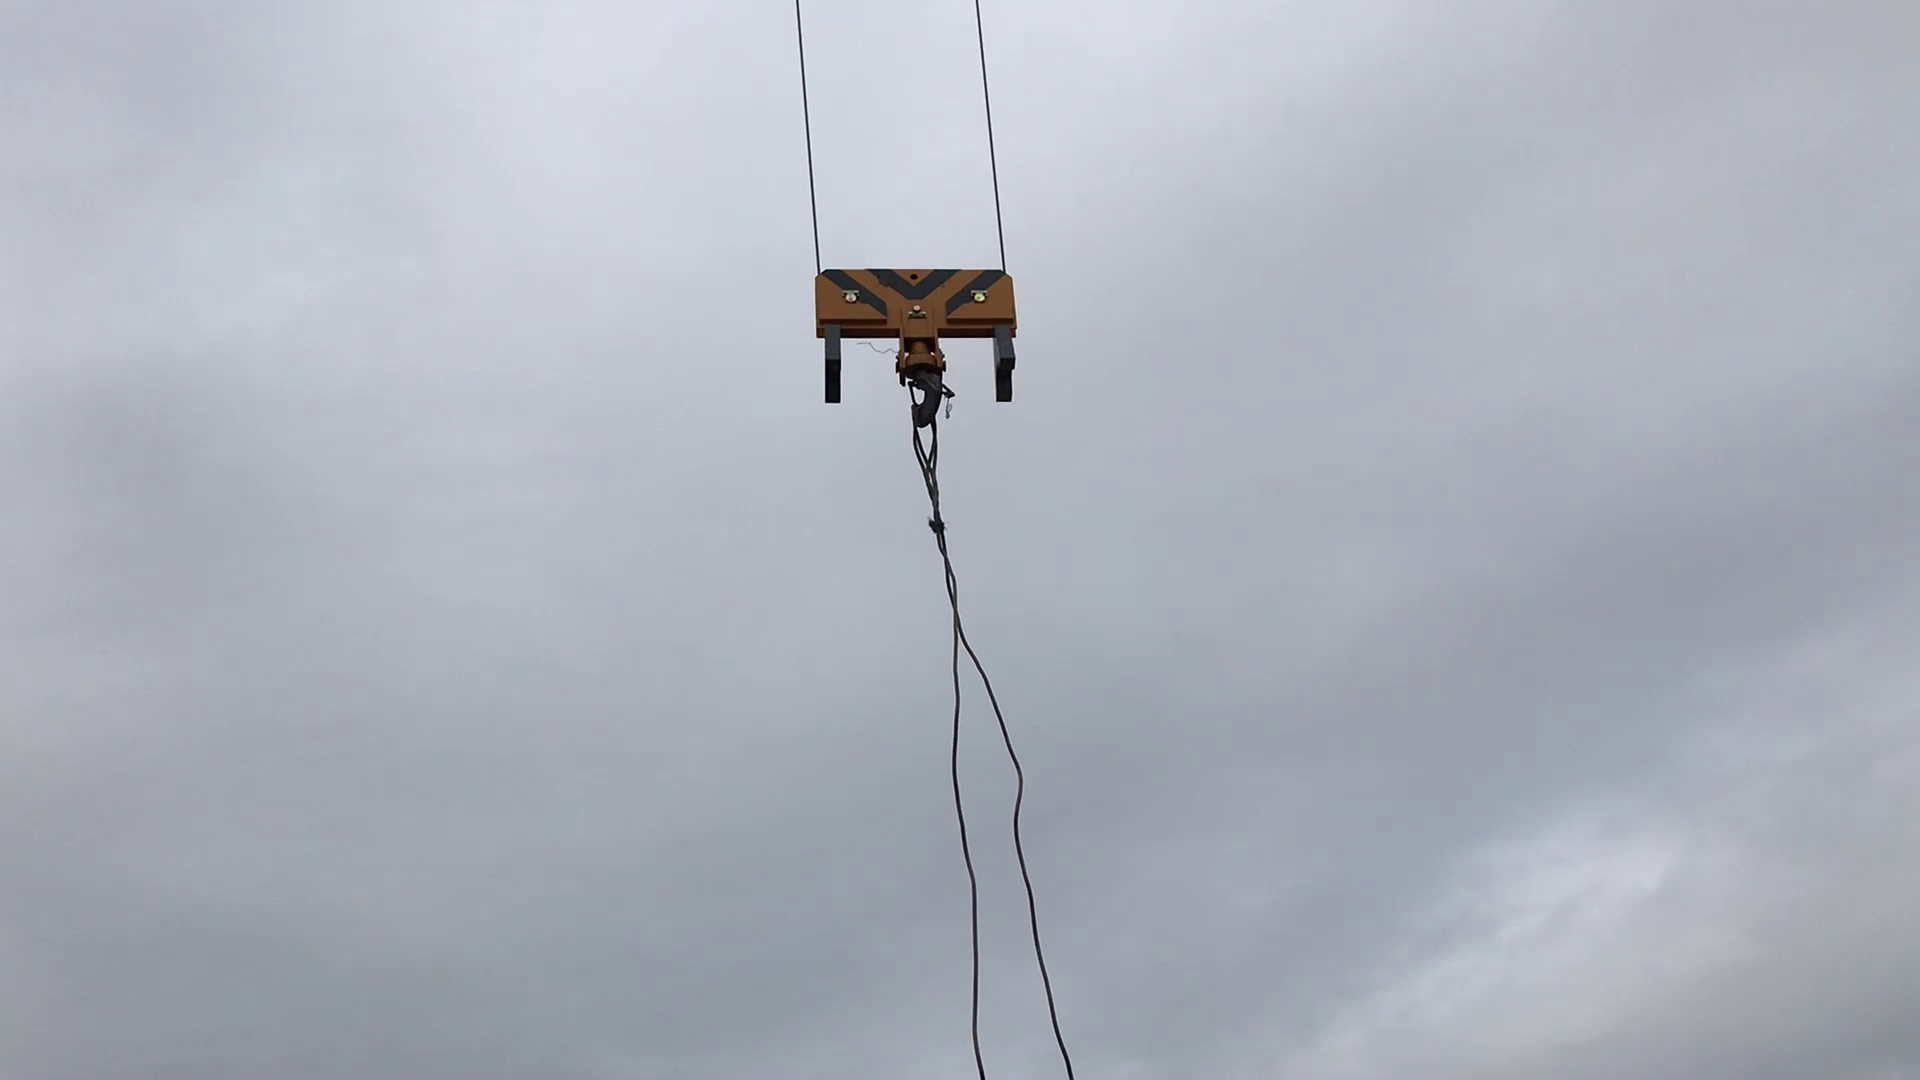hook: (793, 241, 1073, 458)
